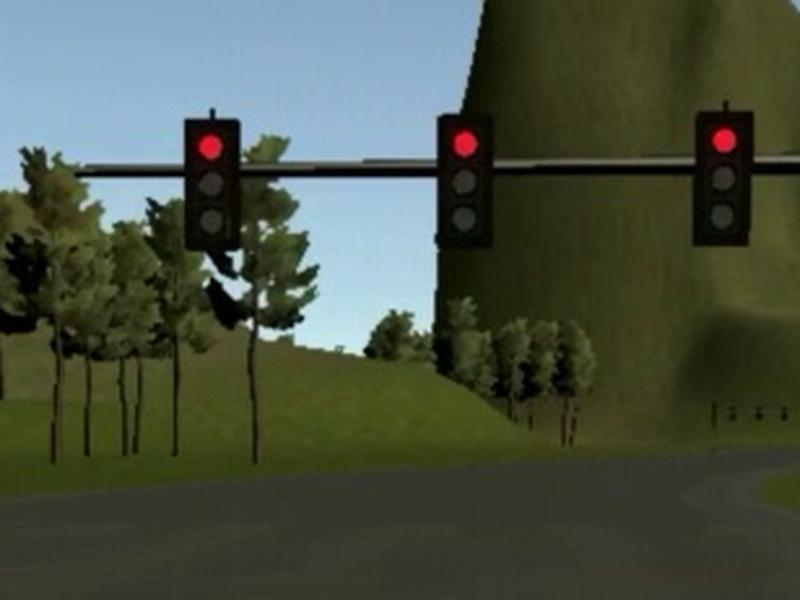Red: (437, 114, 494, 247), (186, 119, 242, 251), (697, 110, 750, 246)
